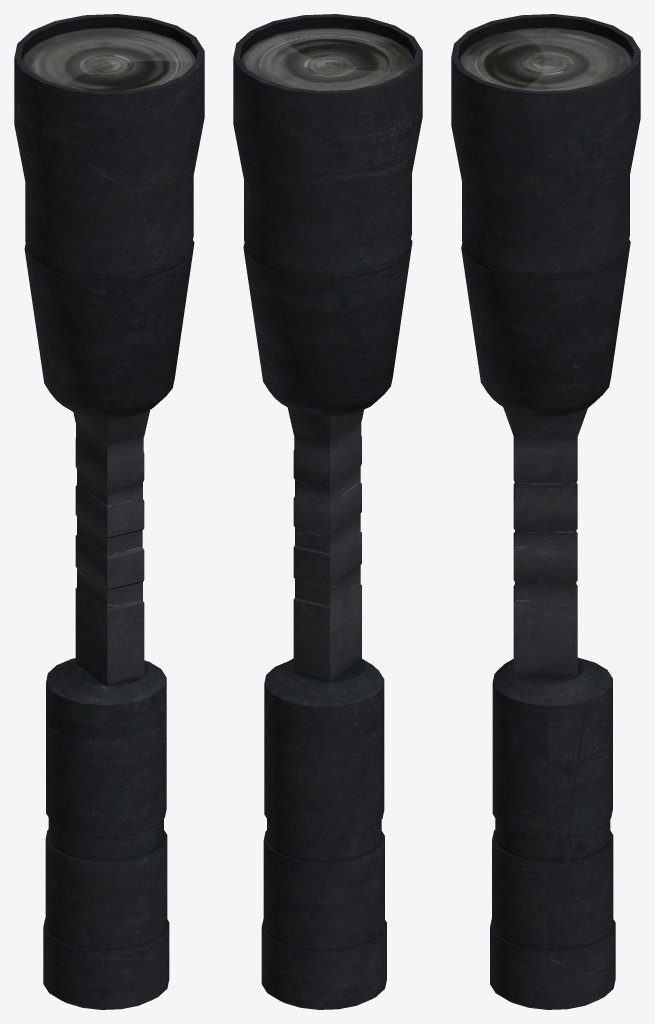
File: Flashlight.fbx
3 renders of one model, left to right at view 1: azimuth 30°, elevation 25°; view 2: azimuth 150°, elevation 25°; view 3: azimuth 270°, elevation 25°, orthographic.
Visible parts, largest first — view 1: Circle_001; view 2: Circle_001; view 3: Circle_001.
Boxes of the visible parts, x1=… form: Circle_001: x1=14, y1=14, x2=204, y2=1009; Circle_001: x1=233, y1=14, x2=422, y2=1009; Circle_001: x1=451, y1=14, x2=640, y2=1009.
Bounding box in the file's own units: 0.6018 × 3.28 × 0.6018.
